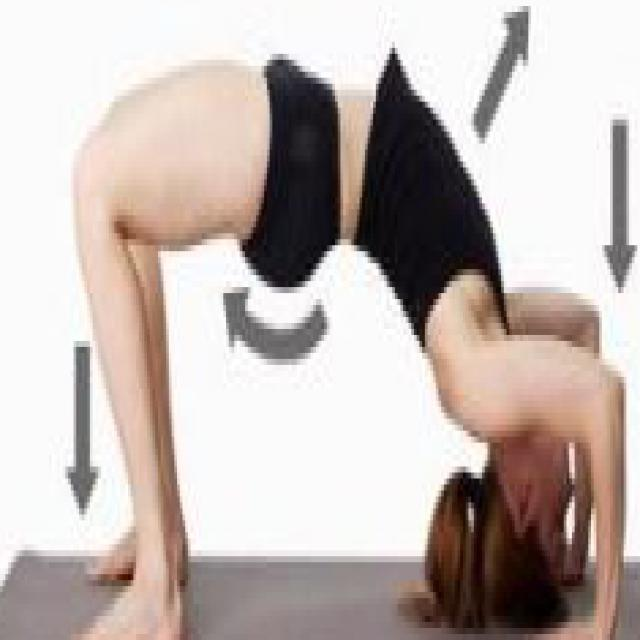yoga-pose bridge: (66, 57, 630, 640)
